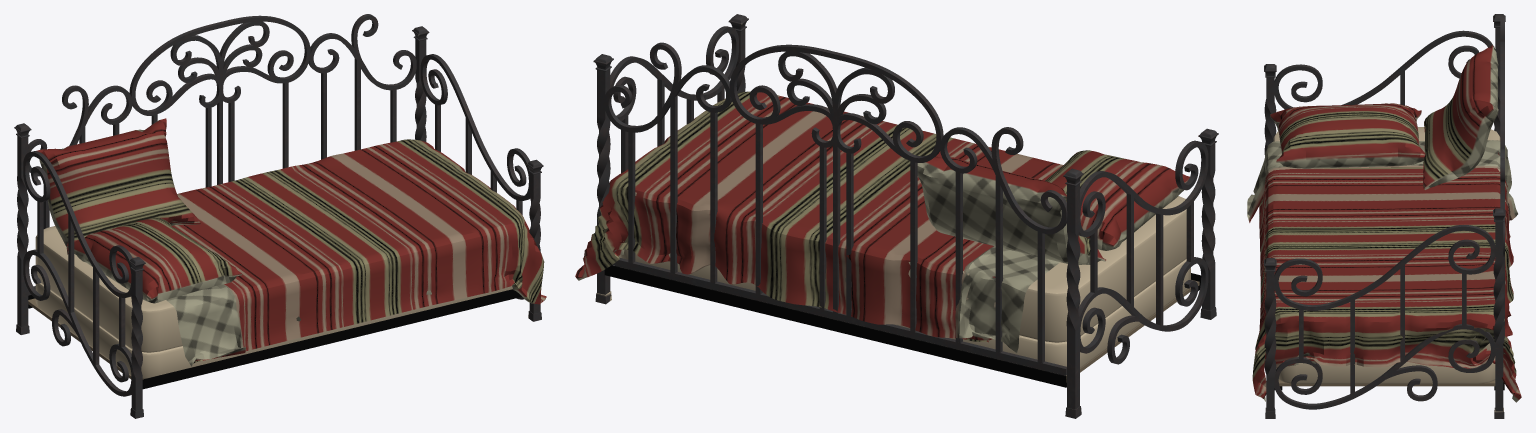
Rendered from bed-4.glb.
3 views of the same model, side by side, from view 1: azimuth 30°, elevation 25°; view 2: azimuth 150°, elevation 25°; view 3: azimuth 270°, elevation 25° (orthographic). The views are drawn at different scales.
Visible parts, largest first — view 1: Day Bed; view 2: Day Bed; view 3: Day Bed.
Boxes of the visible parts, x1,y1,x2,y2 form: Day Bed: (14, 14, 546, 418); Day Bed: (575, 14, 1218, 418); Day Bed: (1247, 14, 1521, 418).
Bounding box in the file's own units: 2.05 × 1.22 × 1.17.
Materials: 1 (1 with a texture image).
